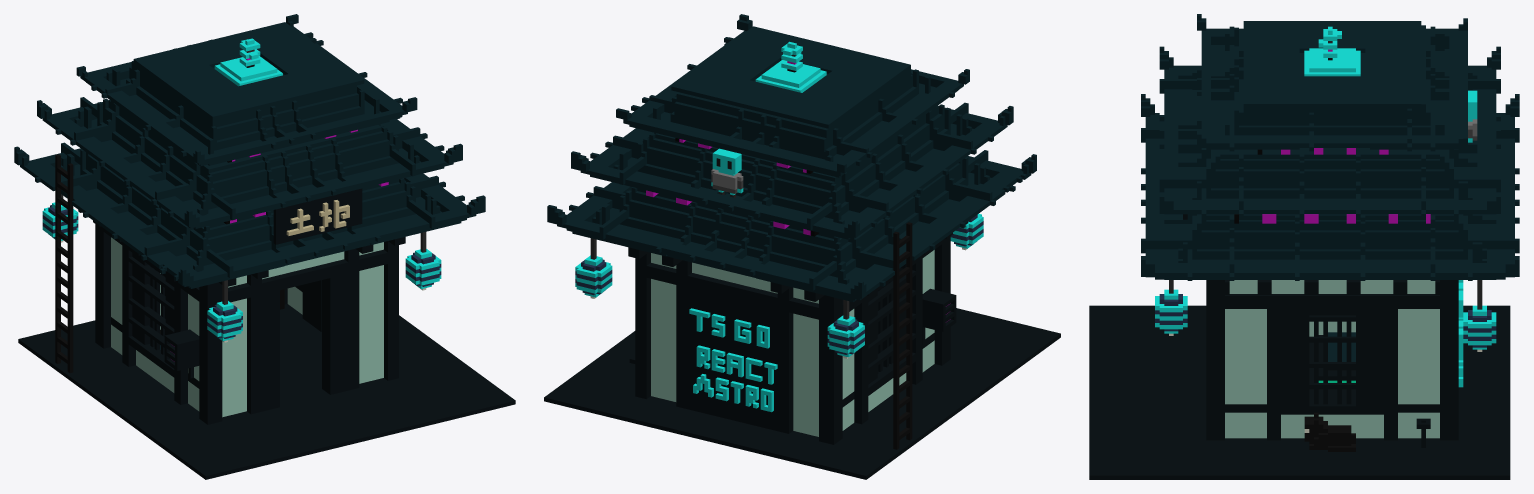
File: temple2.glb
3 views of the same model, side by side, from view 1: azimuth 30°, elevation 25°; view 2: azimuth 150°, elevation 25°; view 3: azimuth 270°, elevation 25° (orthographic). The views are drawn at different scales.
Parts seen in each view (by area): view 1: temple_backup10.002; view 2: temple_backup10.002; view 3: temple_backup10.002.
Part boxes in pixels (left/top/right/bottom): temple_backup10.002: left=14, top=14, right=515, bottom=479; temple_backup10.002: left=544, top=14, right=1060, bottom=479; temple_backup10.002: left=1089, top=14, right=1519, bottom=479.
Bounding box in the file's own units: 8.6 × 9.5 × 9.2.
Materials: 1 (1 with a texture image).
